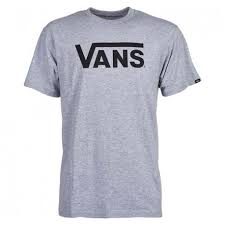vans: (75, 43, 145, 69)
